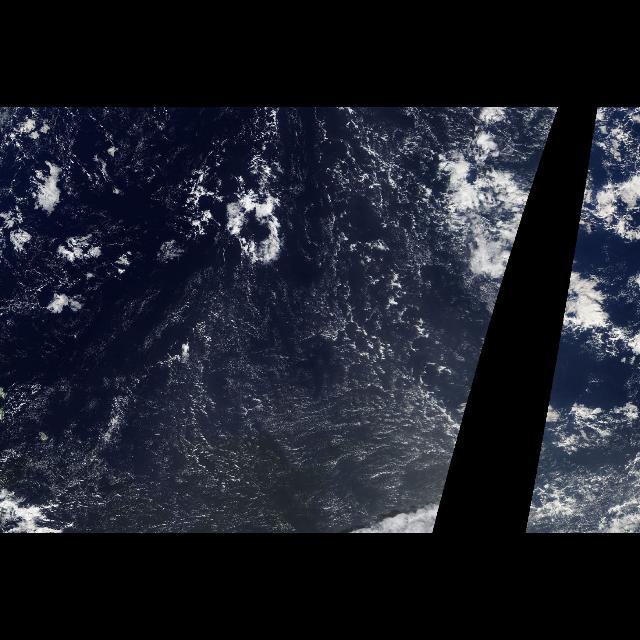Gravel: (238, 126, 472, 410)
Sugar: (80, 300, 463, 532)
